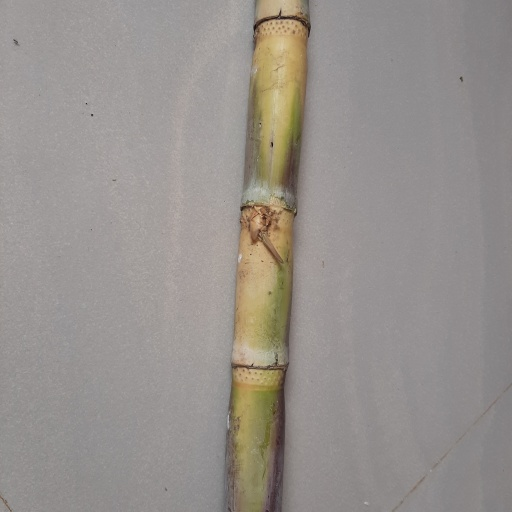Sprouted_Bud: (247, 207, 277, 254)
